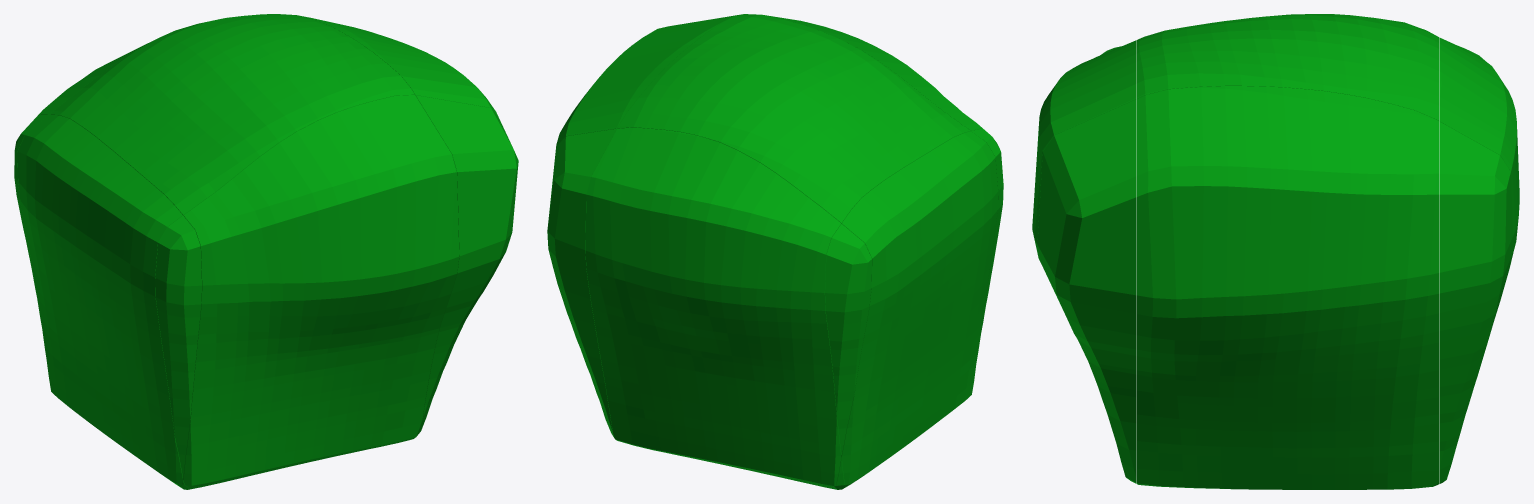
The model's file is 4by10beveledsubdivided.034.fbx.
3 views of the same model, side by side, from view 1: azimuth 30°, elevation 25°; view 2: azimuth 150°, elevation 25°; view 3: azimuth 270°, elevation 25° (orthographic). The views are drawn at different scales.
Parts seen in each view (by area): view 1: 4by10beveledsubdivided.034; view 2: 4by10beveledsubdivided.034; view 3: 4by10beveledsubdivided.034.
Part boxes in pixels (x1=…): 4by10beveledsubdivided.034: x1=14, y1=14, x2=518, y2=489; 4by10beveledsubdivided.034: x1=547, y1=14, x2=1003, y2=489; 4by10beveledsubdivided.034: x1=1032, y1=14, x2=1519, y2=489.
Size of the model in its own units: 315 by 298 by 323.
